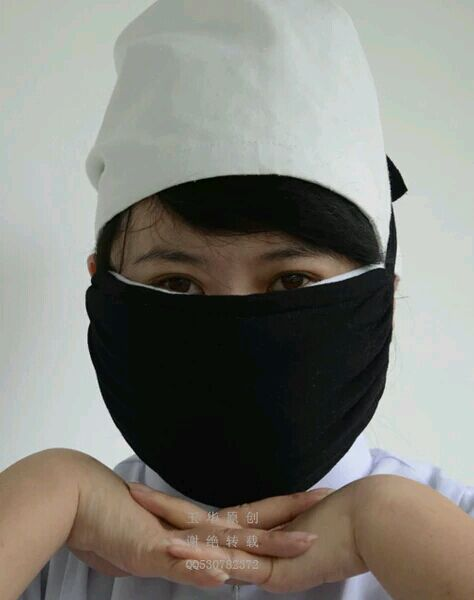face_mask: (92, 172, 368, 498)
